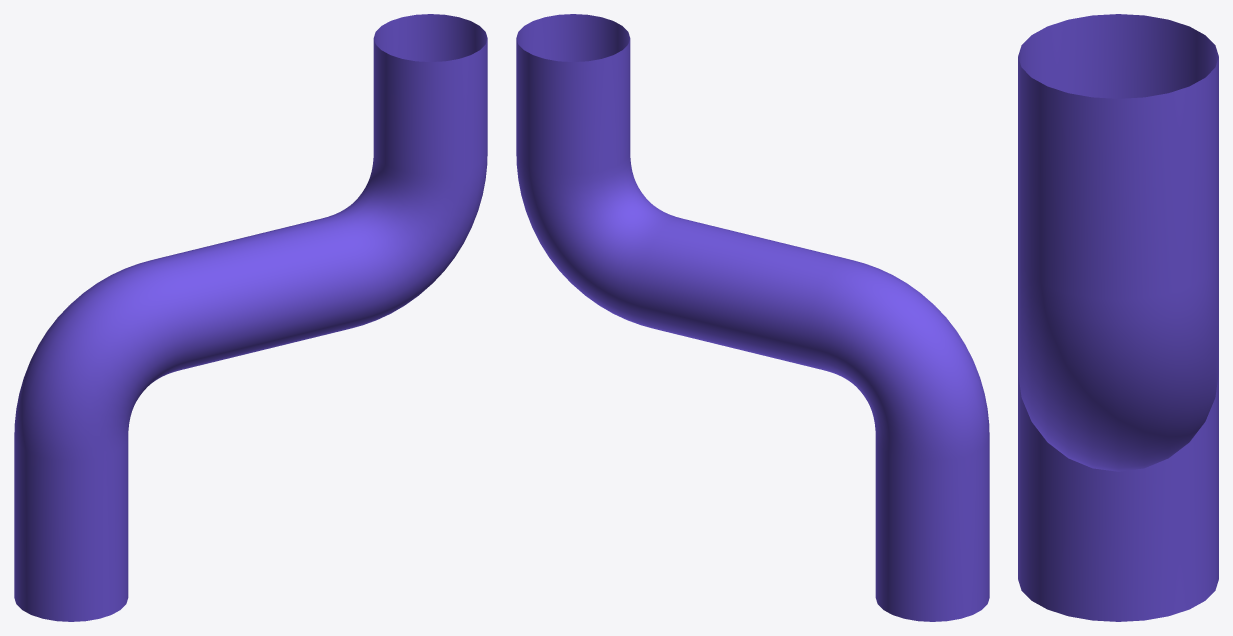
Rendered from pipelinesansfondv.glb.
3 renders of one model, left to right at view 1: azimuth 30°, elevation 25°; view 2: azimuth 150°, elevation 25°; view 3: azimuth 270°, elevation 25°, orthographic. The views are drawn at different scales.
Visible parts, largest first — view 1: Plane; view 2: Plane; view 3: Plane.
Part boxes in pixels (left/top/right/bottom): Plane: left=14, top=14, right=487, bottom=621; Plane: left=516, top=14, right=989, bottom=621; Plane: left=1018, top=14, right=1218, bottom=621.
Bounding box in the file's own units: 1.23 × 1.21 × 0.2648.
